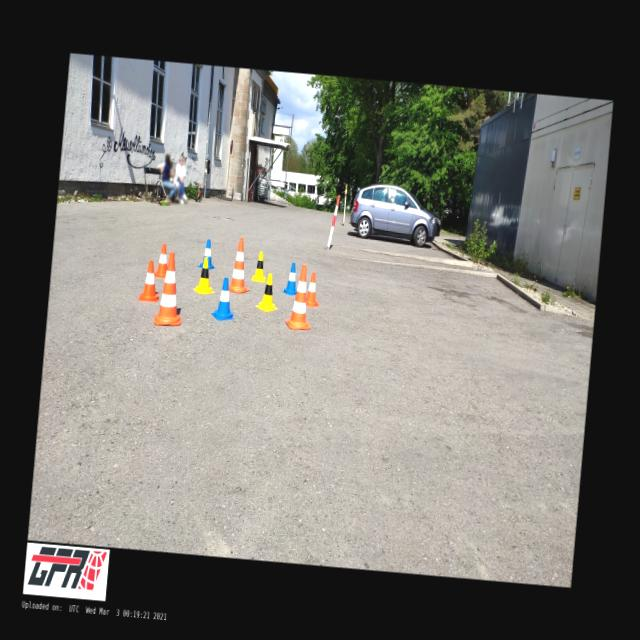blue_cone: (210, 276, 238, 322), (282, 262, 299, 296), (198, 239, 216, 269)
large_orange_cone: (154, 252, 186, 326), (284, 262, 316, 330), (228, 237, 253, 294)
orange_cone: (138, 260, 162, 302), (305, 272, 321, 306), (154, 244, 168, 278)
yellow_cone: (255, 272, 280, 312), (192, 256, 216, 294), (251, 250, 268, 282)
